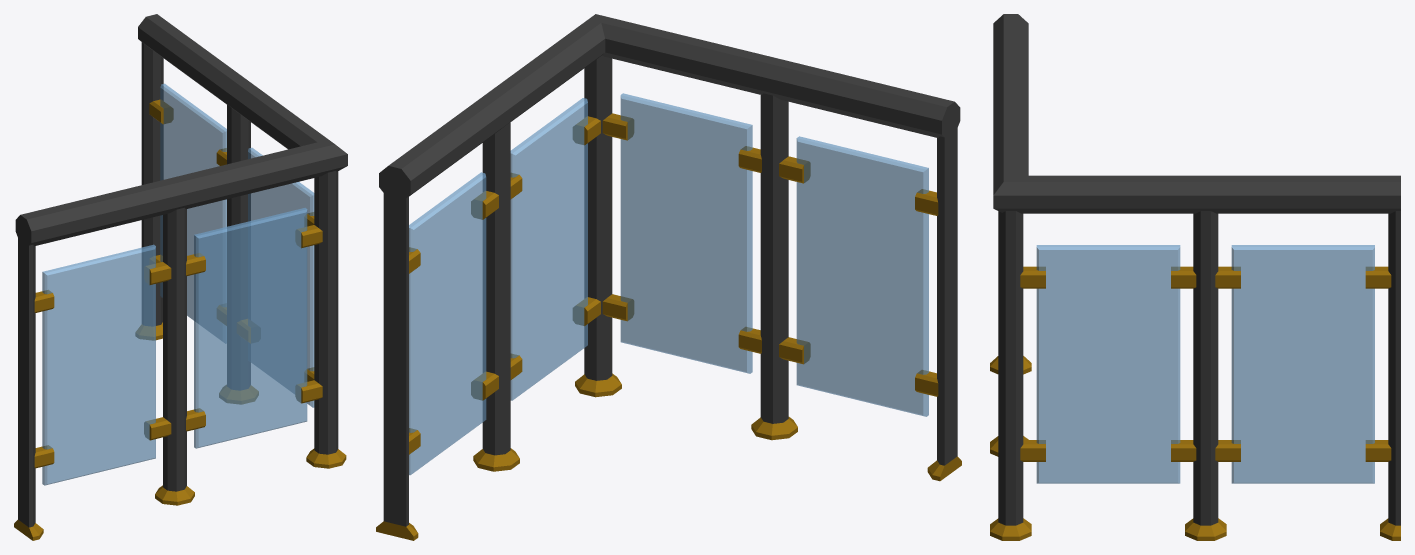
Rendered from glass_rope_ugol.glb.
The picture shows the model from 3 angles, left to right: view 1: azimuth 30°, elevation 25°; view 2: azimuth 150°, elevation 25°; view 3: azimuth 270°, elevation 25°; orthographic projection. The views are drawn at different scales.
Visible parts, largest first — view 1: mesh_1, mesh_0; view 2: mesh_1, mesh_0; view 3: mesh_1, mesh_0.
Part boxes in pixels (x1,y1,x2,y2): mesh_1: [42, 83, 314, 485]; mesh_0: [14, 14, 347, 540]; mesh_1: [409, 93, 928, 475]; mesh_0: [376, 14, 961, 540]; mesh_1: [1036, 245, 1374, 483]; mesh_0: [990, 14, 1400, 540].
Bounding box in the file's own units: 1.05 × 1 × 1.05.
